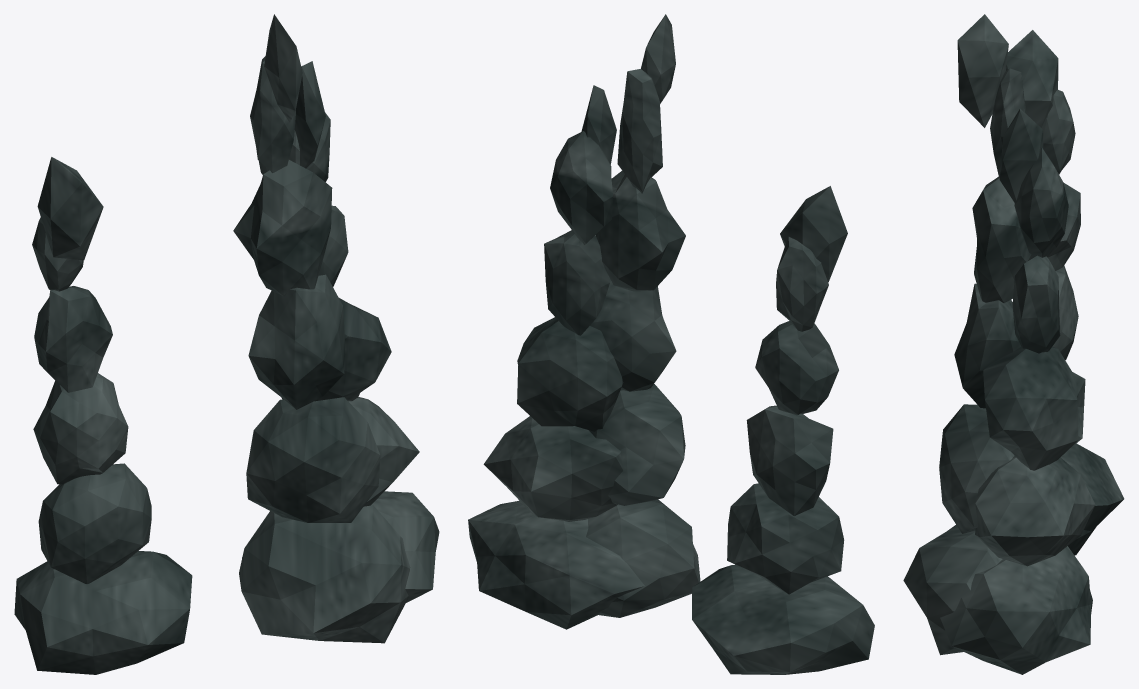
Rendered from 0055_rock_spire_05.glb.
3 views of the same model, side by side, from view 1: azimuth 30°, elevation 25°; view 2: azimuth 150°, elevation 25°; view 3: azimuth 270°, elevation 25° (orthographic). The views are drawn at different scales.
Visible parts, largest first — view 1: stone_dark; view 2: stone_dark; view 3: stone_dark.
Part boxes in pixels (x1,y1,x2,y2): stone_dark: (14,14,439,674); stone_dark: (468,14,874,674); stone_dark: (903,14,1124,674).
Bounding box in the file's own units: 1.84 × 2.73 × 0.9047.
1 material, 1 textured.
